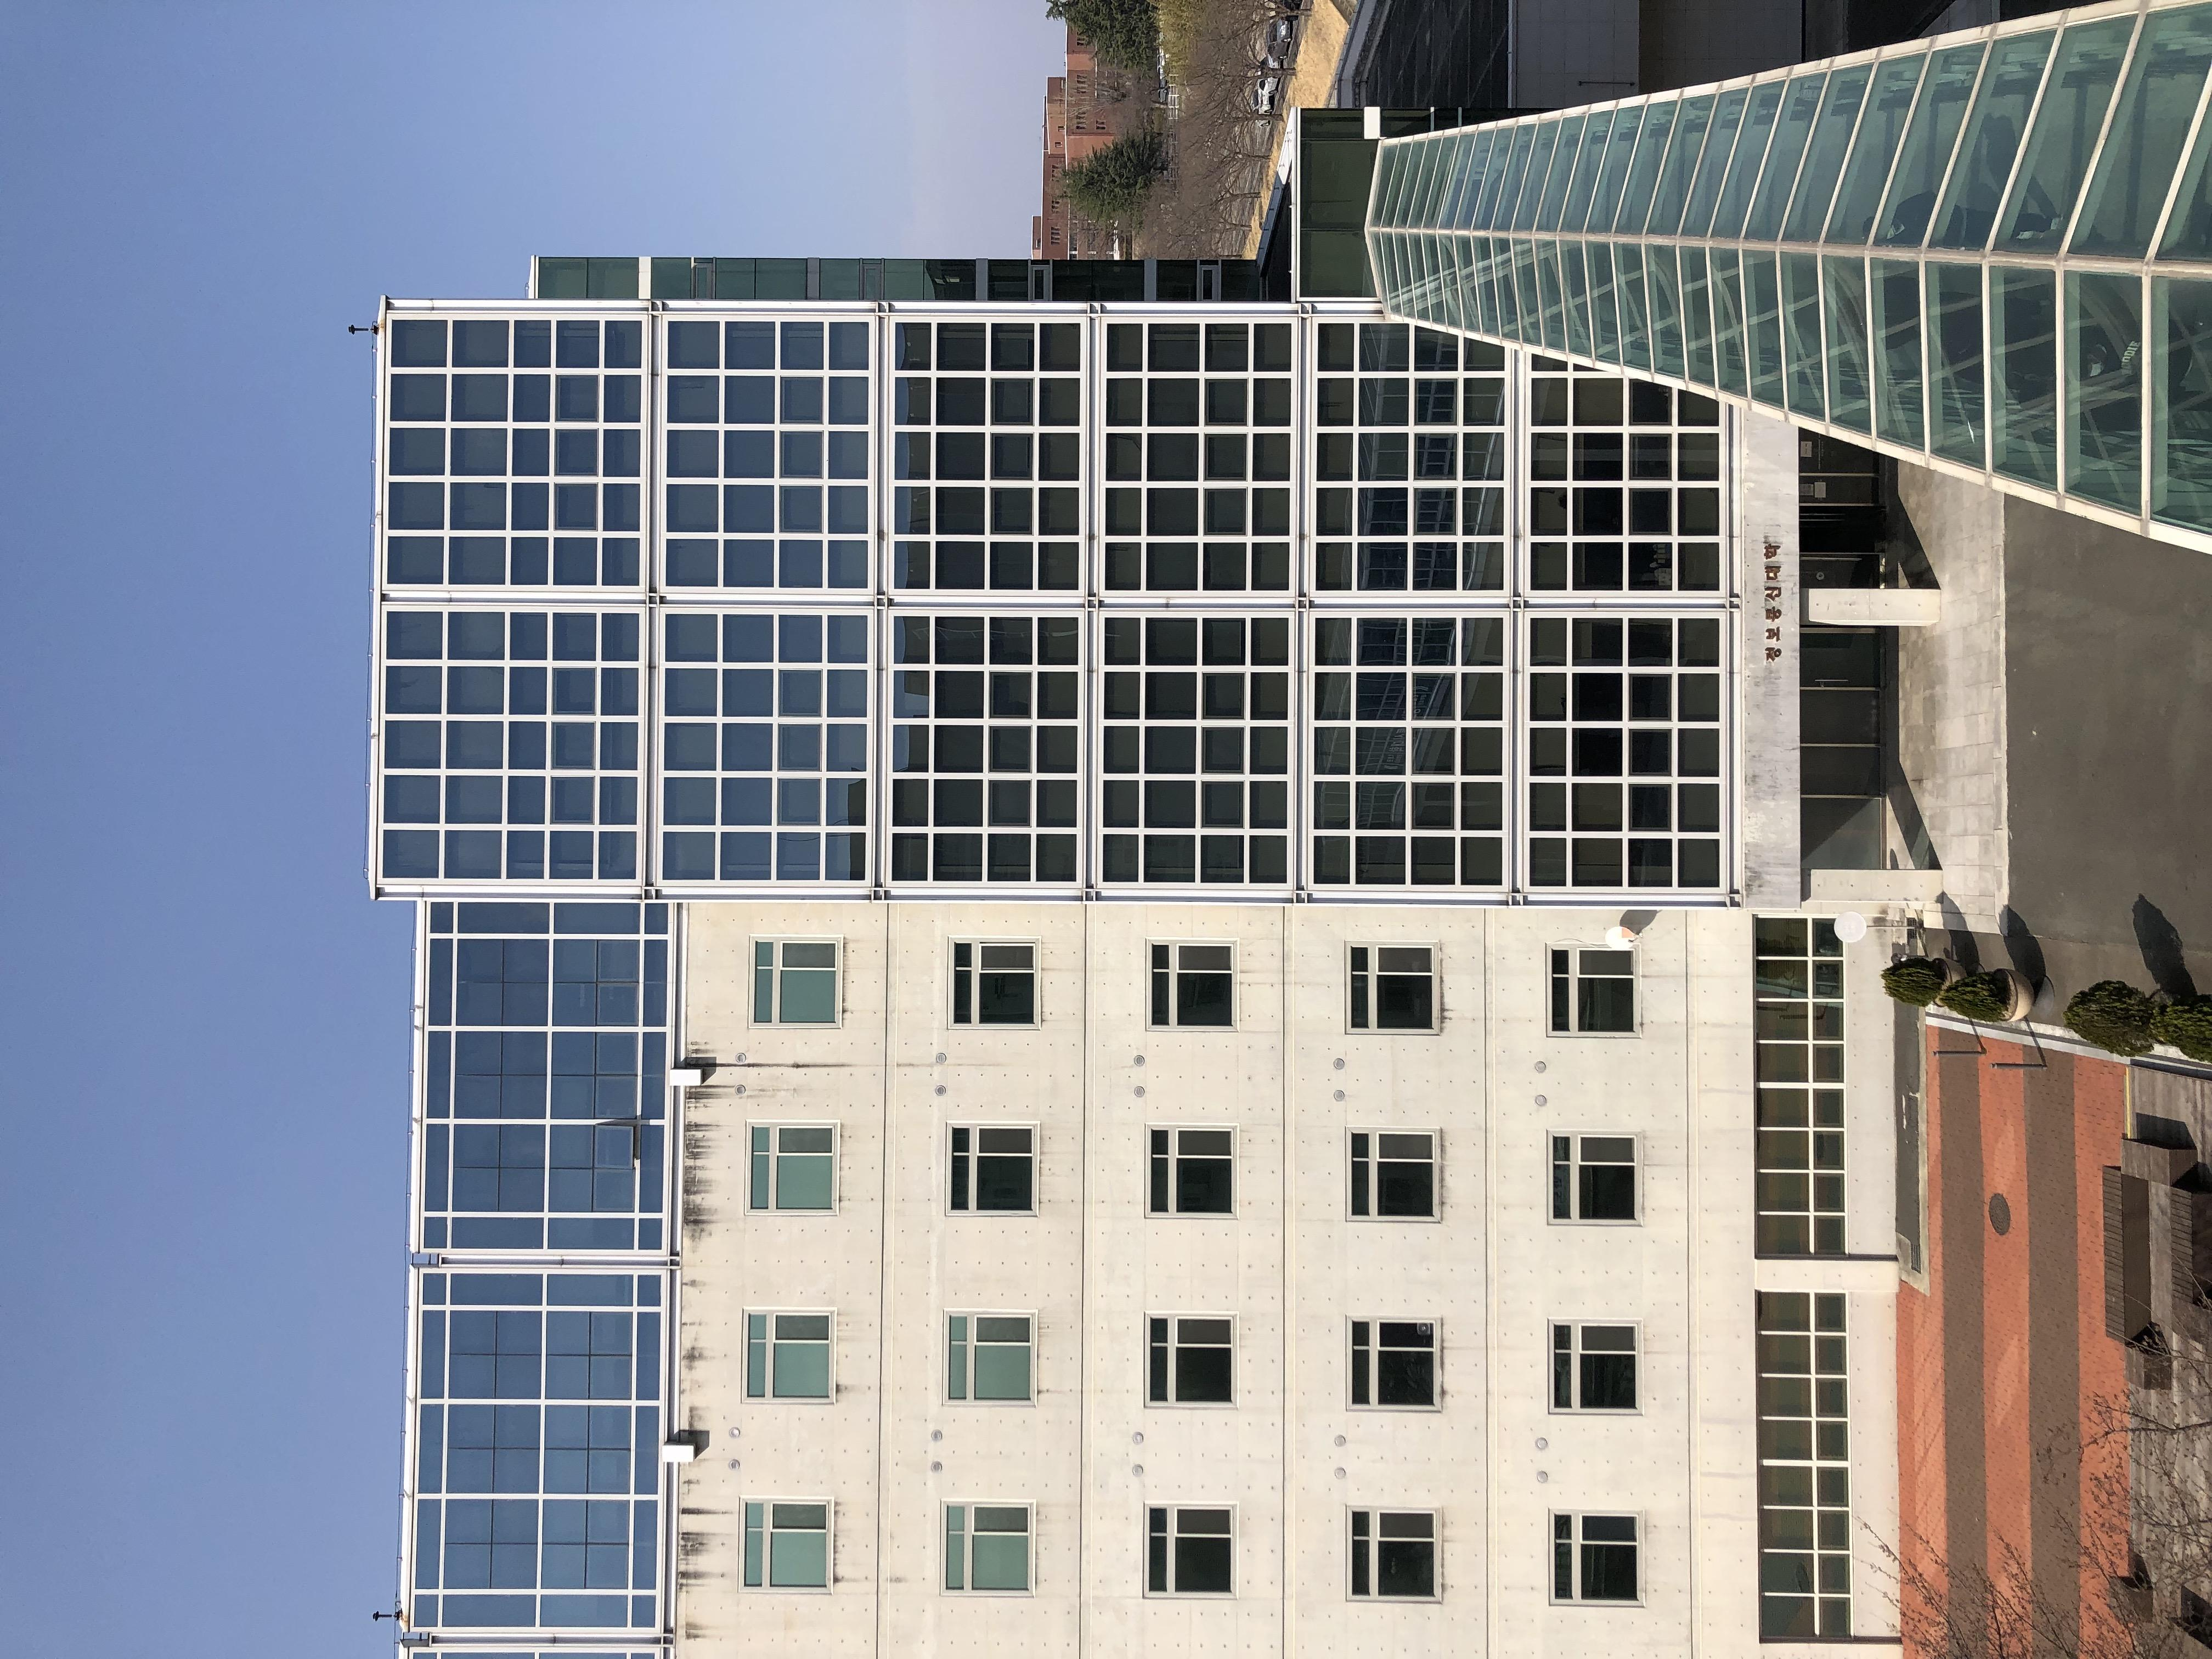building: (0, 228, 1975, 1555)
